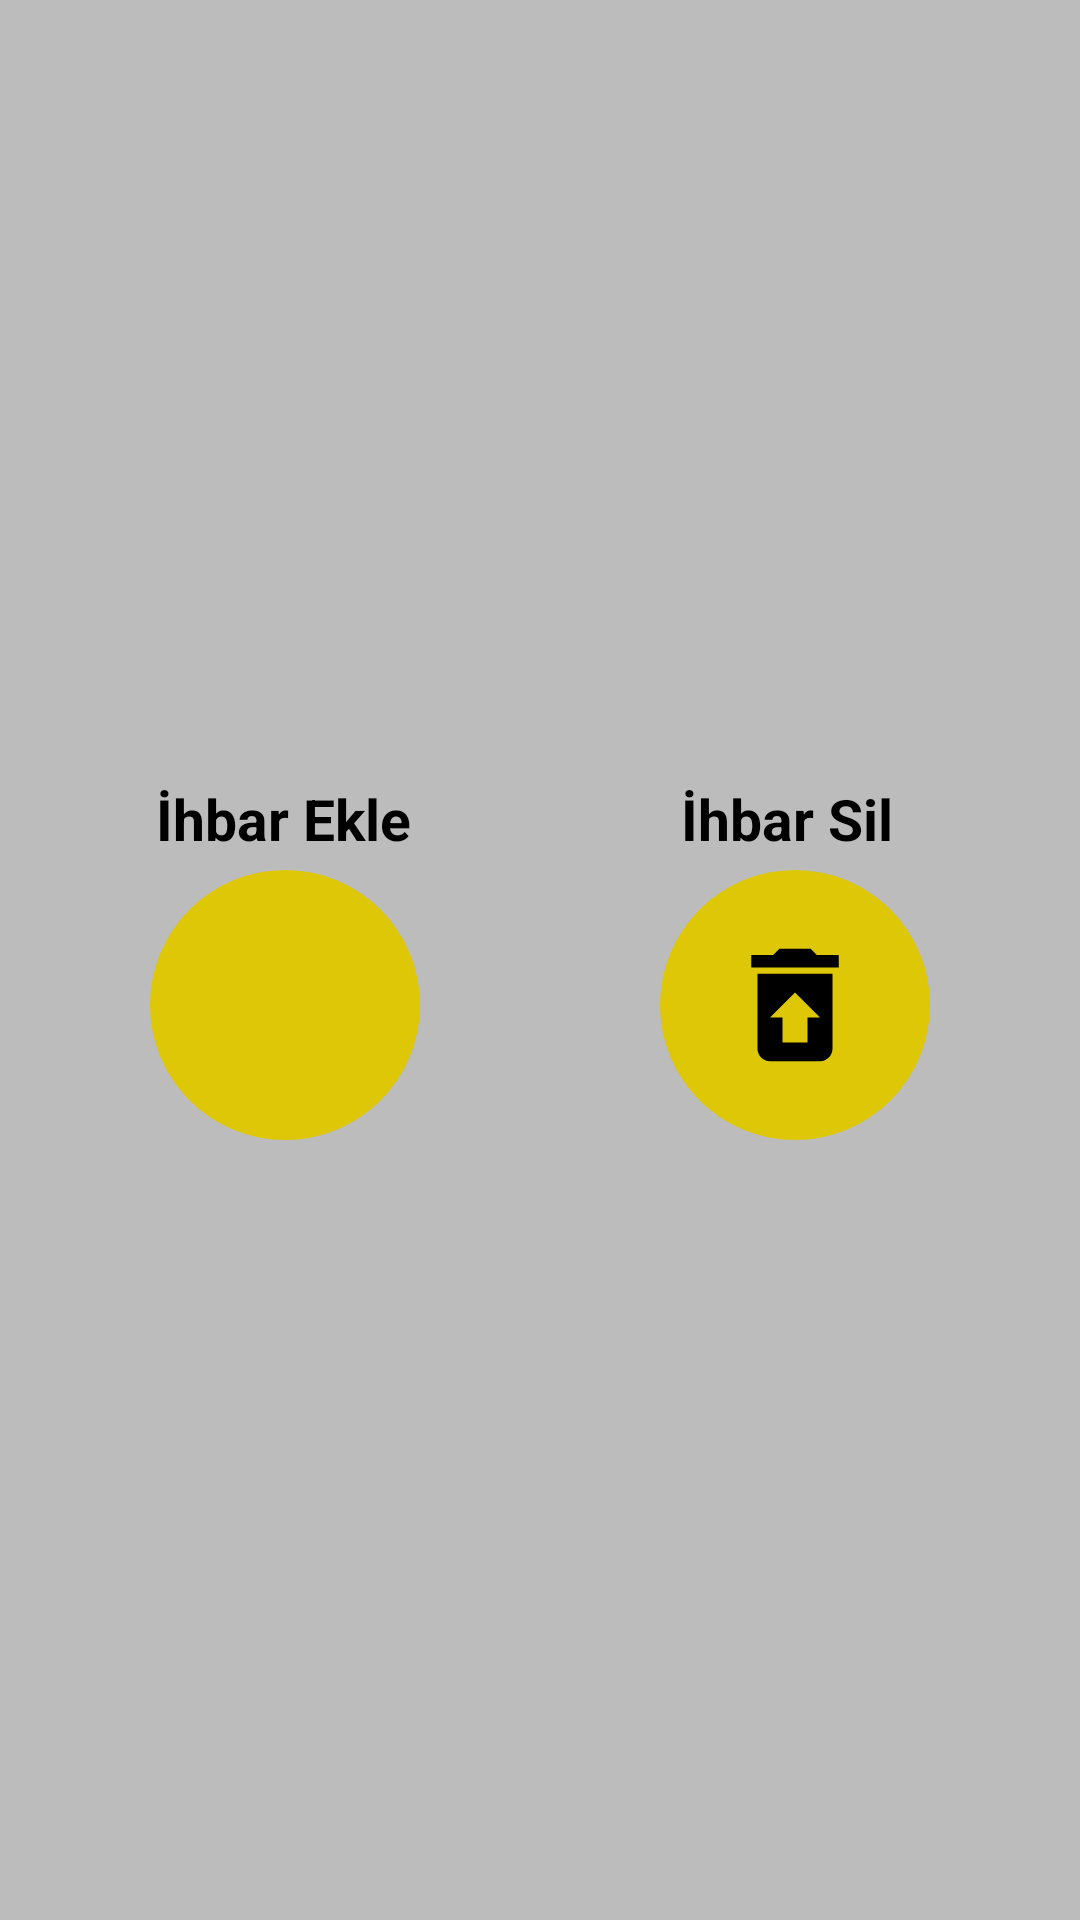

Point at icon controls on the screen. Image size 1080 x 1920, points as [x,y].
trash: [795,1005]
